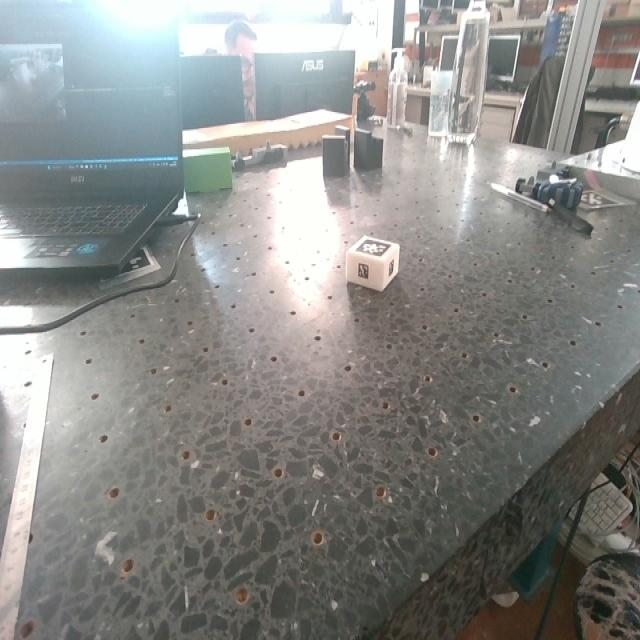Cube: (343, 231, 400, 289)
